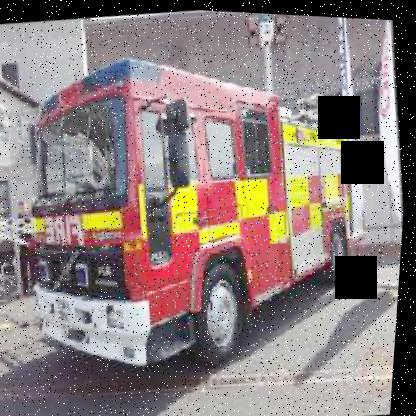emergency: (0, 21, 389, 394)
